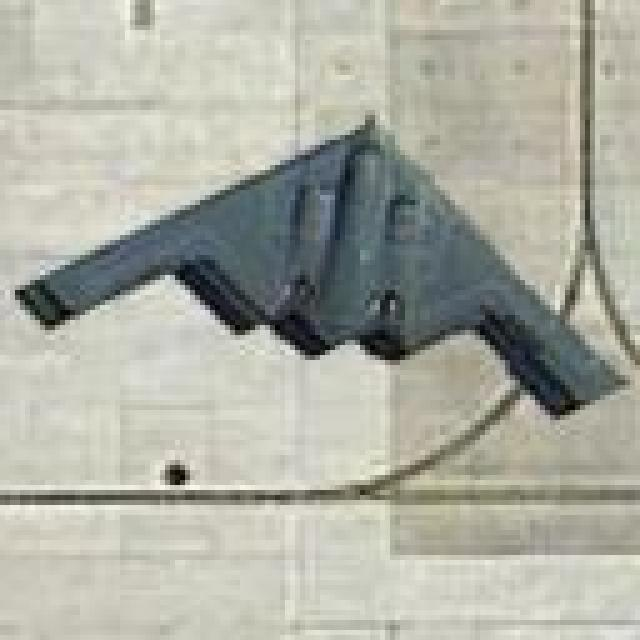B-2_TopDown: (10, 105, 630, 420)
